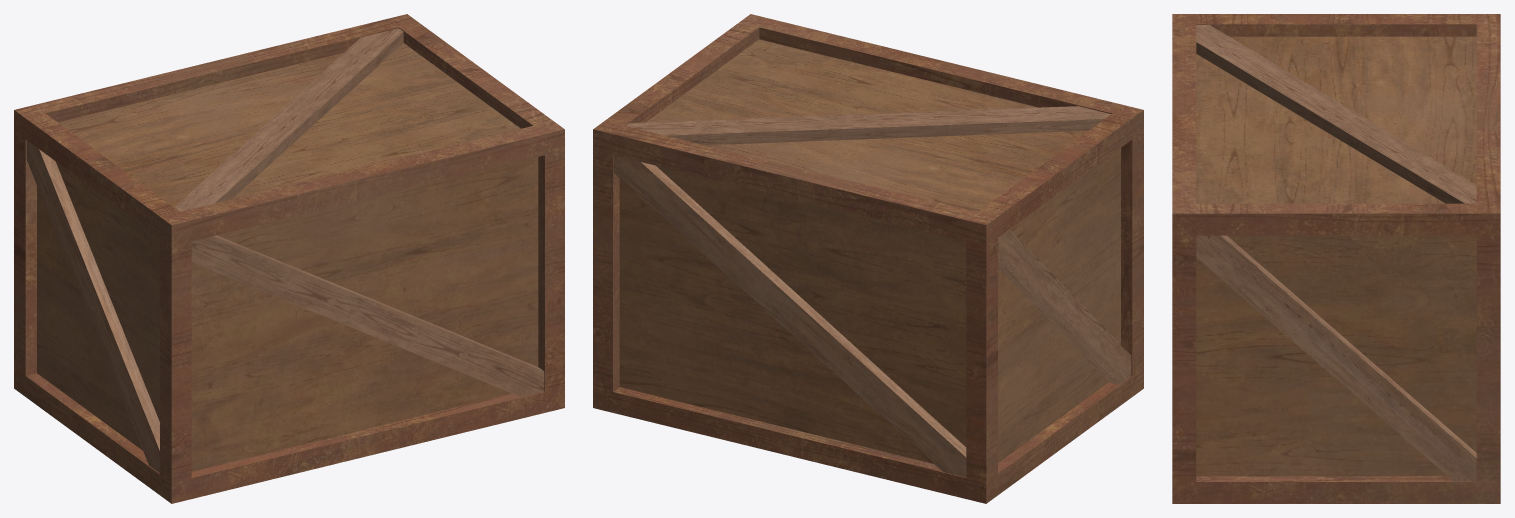
3 renders of one model, left to right at view 1: azimuth 30°, elevation 25°; view 2: azimuth 150°, elevation 25°; view 3: azimuth 270°, elevation 25°, orthographic. The views are drawn at different scales.
Parts seen in each view (by area): view 1: Tabua_caixa3.017; view 2: Tabua_caixa3.017; view 3: Tabua_caixa3.017.
Boxes of the visible parts, bbox=[...] form: Tabua_caixa3.017: bbox=[14, 14, 564, 503]; Tabua_caixa3.017: bbox=[593, 14, 1143, 503]; Tabua_caixa3.017: bbox=[1172, 14, 1500, 503].
Bounding box in the file's own units: 2.75 × 1.86 × 1.91.
3 materials, 3 textured.
